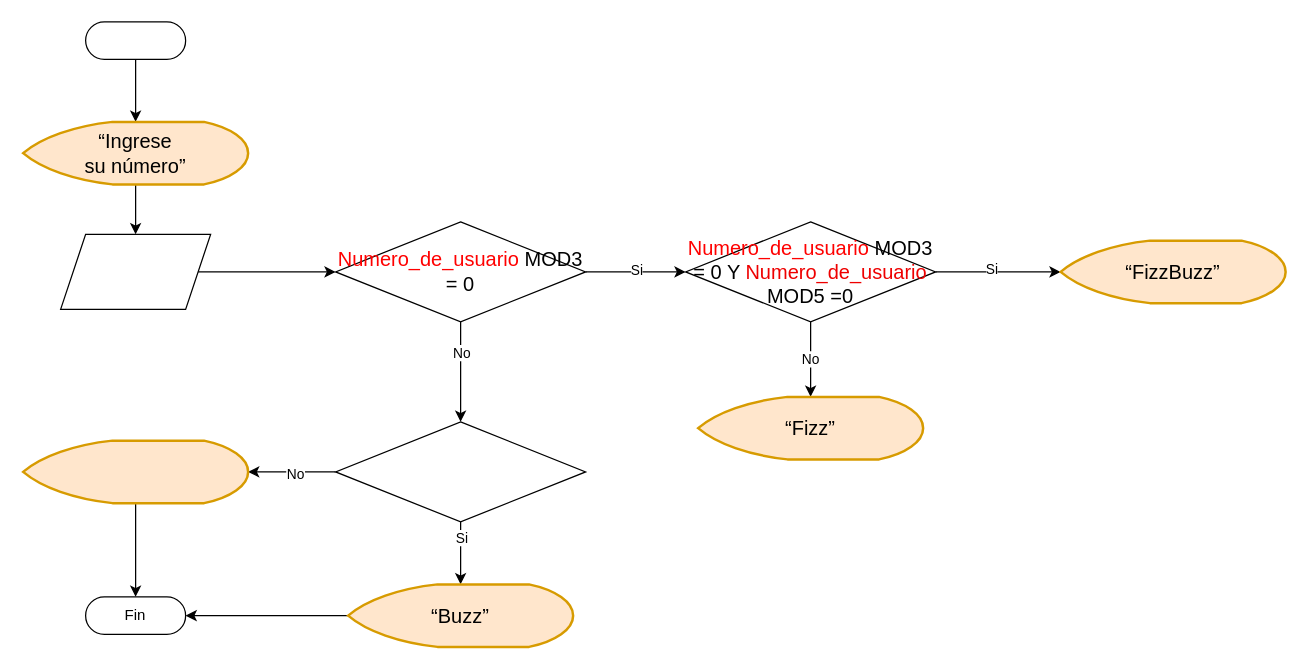
Image size: 1308x670. Some labels were removed from this diagram. Here are the shapes that lost their labels. From the top down, the centre of each, then its label:
the point at 135,40: Inicio
the point at 135,271: Numero_de_usuario
the point at 135,471: “ NA”
the point at 460,471: Numero_de_usuario MOD5 = 0
